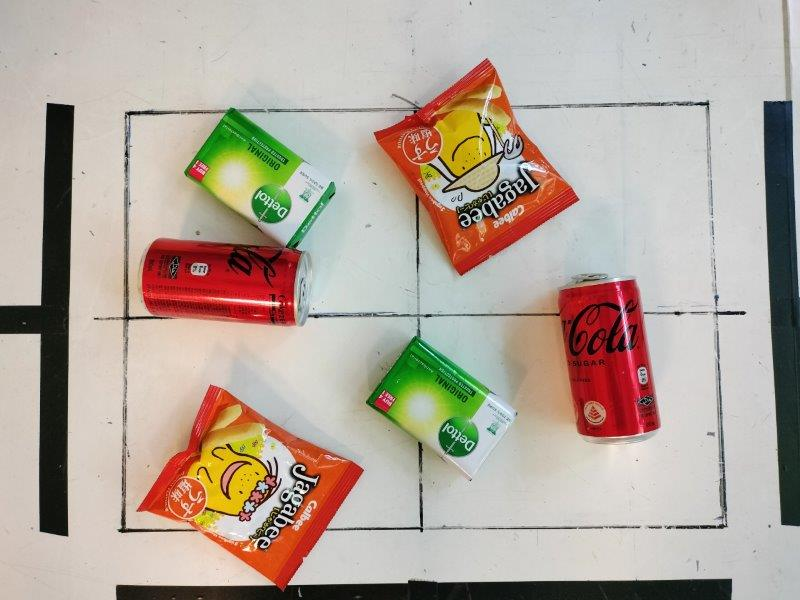Coke: (558, 271, 663, 446), (138, 237, 314, 327)
Dettol: (183, 107, 336, 250), (367, 337, 519, 480)
Jagabee: (135, 386, 364, 590), (372, 60, 579, 274)
